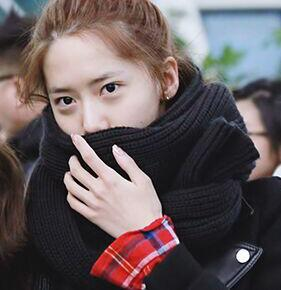WRONG: (49, 60, 151, 158)
